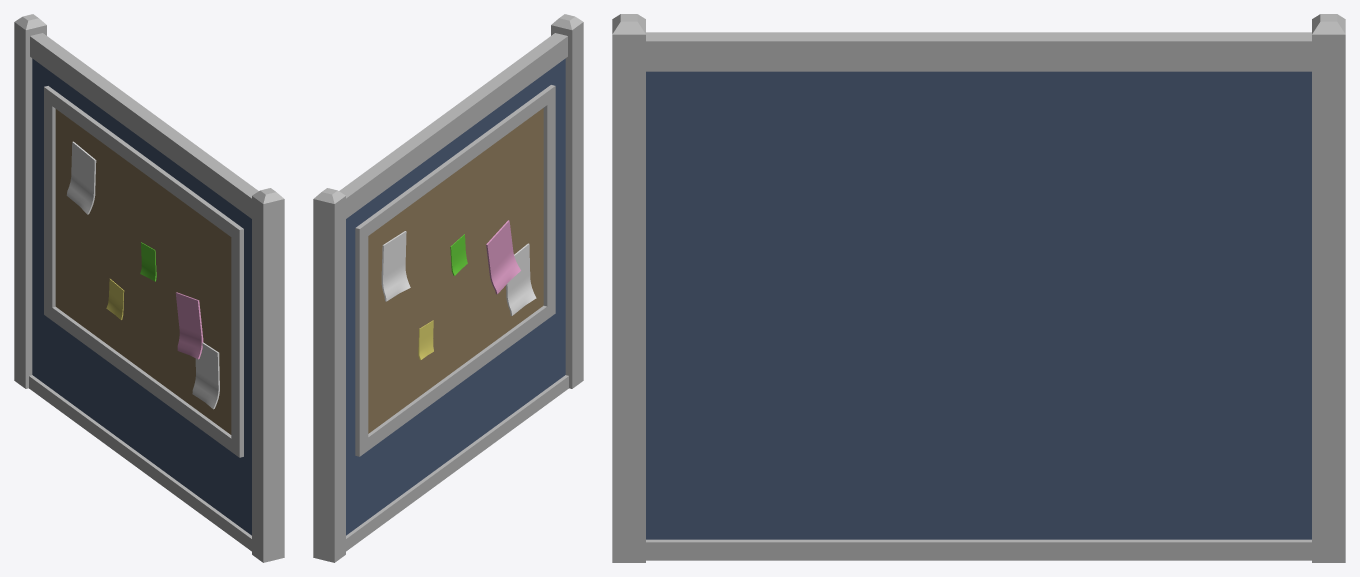
The model's file is Office Wall 1.fbx.
3 views of the same model, side by side, from view 1: azimuth 30°, elevation 25°; view 2: azimuth 150°, elevation 25°; view 3: azimuth 270°, elevation 25° (orthographic). The views are drawn at different scales.
Parts seen in each view (by area): view 1: pasted__pCube27 (×3), pasted__pCube26, pasted__pasted__pCube26, pCube27, pCube28, pasted__pCube28; view 2: pasted__pCube26, pasted__pCube27 (×3), pasted__pasted__pCube26, pCube27, pasted__pCube28, pCube28; view 3: pasted__pCube26, pasted__pasted__pCube26.
Part boxes in pixels (<box>): pasted__pCube27 (×3): <box>44,86,243,457</box>; pasted__pCube26: <box>14,14,258,551</box>; pasted__pasted__pCube26: <box>252,188,284,562</box>; pCube27: <box>192,342,219,409</box>; pCube28: <box>106,279,124,319</box>; pasted__pCube28: <box>140,242,156,281</box>; pasted__pCube26: <box>313,33,568,562</box>; pasted__pCube27 (×3): <box>355,85,555,456</box>; pasted__pasted__pCube26: <box>551,14,583,388</box>; pCube27: <box>506,243,536,315</box>; pasted__pCube28: <box>450,234,467,275</box>; pCube28: <box>418,320,433,360</box>; pasted__pCube26: <box>646,14,1345,562</box>; pasted__pasted__pCube26: <box>612,14,645,562</box>.
Size of the model in its own units: 1.07 by 16.42 by 20.31.
